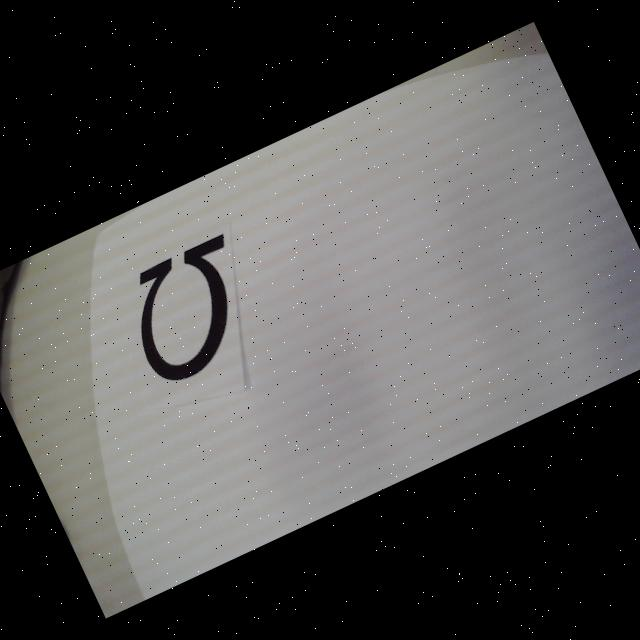OMEGA: (112, 232, 273, 391)
